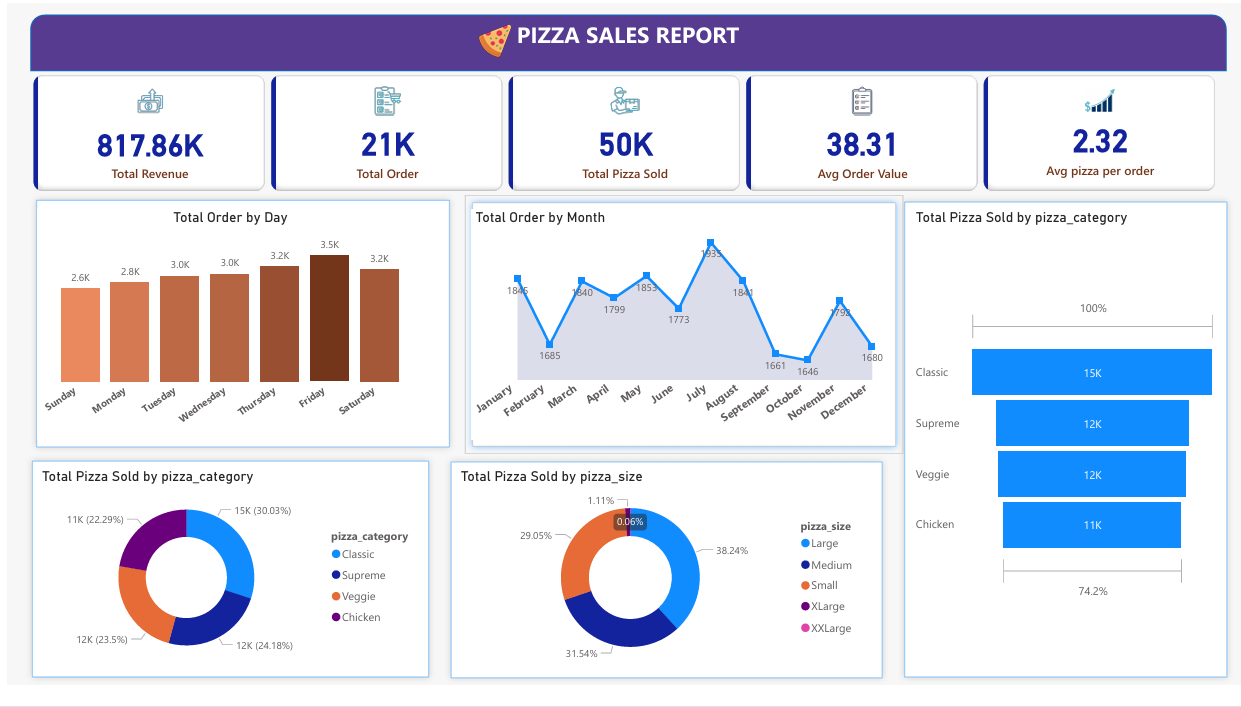

The page's visual inventory and layout, read from the dashboard file:
{"tool":"powerbi","page":{"name":"Dashboard","canvas":[1500,820],"ordinal":0},"visuals":[{"type":"cardVisual","fields":{"Data":["pizza_sales.Total Revenue","pizza_sales.Total Order","pizza_sales.Total Pizza Sold","pizza_sales.Avg Order Value","pizza_sales.Avg pizza per order"]},"box":[26.5,80.8,1433.1,149],"z":0},{"type":"shape","box":[27.1,12.9,1440,68.6],"z":1000},{"type":"textbox","box":[602.9,12.9,287.1,57.1],"z":2000},{"type":"image","box":[558.6,18.6,54.3,51.4],"z":3000},{"type":"shape","box":[26.5,228.4,513.9,313.4],"z":4000},{"type":"clusteredColumnChart","title":"Total Order by Day ","fields":{"Category":["pizza_sales.Day Name"],"Y":["pizza_sales.Total Order"]},"box":[34.8,246.5,466.5,278.5],"z":5000},{"type":"shape","box":[550.1,229.8,527.8,312],"z":6000},{"type":"stackedAreaChart","fields":{"Category":["pizza_sales.order_date.Variation.Date Hierarchy.Month"],"Y":["pizza_sales.Total Order"]},"box":[558.5,246.5,502.8,278.5],"z":7000},{"type":"shape","box":[20.9,541.7,494.4,277.1],"z":8000},{"type":"donutChart","fields":{"Category":["pizza_sales.pizza_category"],"Y":["pizza_sales.Total Pizza Sold"]},"box":[36.2,558.5,466.5,246.5],"z":9000},{"type":"shape","box":[525,543.1,536.2,277.1],"z":10000},{"type":"donutChart","fields":{"Category":["pizza_sales.pizza_size"],"Y":["pizza_sales.Total Pizza Sold"]},"box":[540.4,558.5,498.6,246.5],"z":11000},{"type":"shape","box":[1071,229.8,405.3,589.1],"z":12000},{"type":"funnel","fields":{"Category":["pizza_sales.pizza_category"],"Y":["pizza_sales.Total Pizza Sold"]},"box":[1087.7,246.5,371.8,558.5],"z":13000}]}

Visuals, with their boxes on the page's 1500x820 design canvas (x1, y1, x2, y2). These are canvas units, not pixel positions in the 1241x707 screenshot, which may show the page scaled, cropped or inside an application window:
cardVisual - pizza_sales.Total Revenue x pizza_sales.Total Order: 26,81,1460,230
shape: 27,13,1467,82
textbox: 603,13,890,70
image: 559,19,613,70
shape: 26,228,540,542
"Total Order by Day " clusteredColumnChart: 35,246,501,525
shape: 550,230,1078,542
stackedAreaChart - pizza_sales.order_date.Variation.Date Hierarchy.Month x pizza_sales.Total Order: 558,246,1061,525
shape: 21,542,515,819
donutChart - pizza_sales.pizza_category x pizza_sales.Total Pizza Sold: 36,558,503,805
shape: 525,543,1061,820
donutChart - pizza_sales.pizza_size x pizza_sales.Total Pizza Sold: 540,558,1039,805
shape: 1071,230,1476,819
funnel - pizza_sales.pizza_category x pizza_sales.Total Pizza Sold: 1088,246,1460,805
